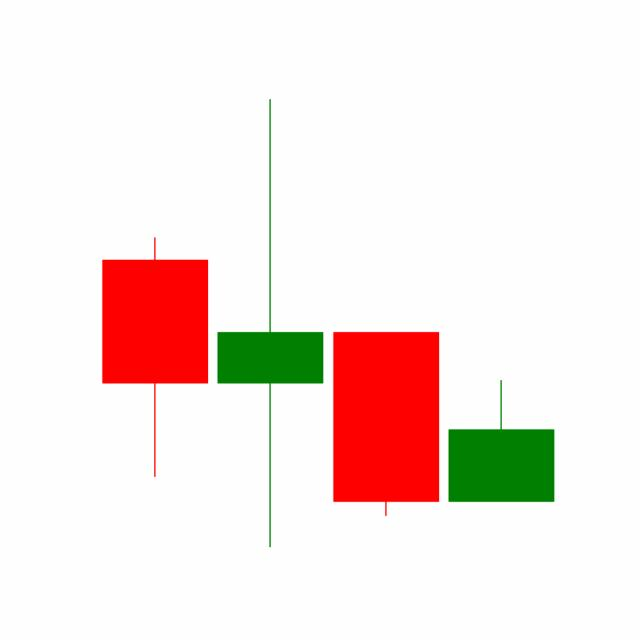Marubozu: (328, 329, 444, 518)
